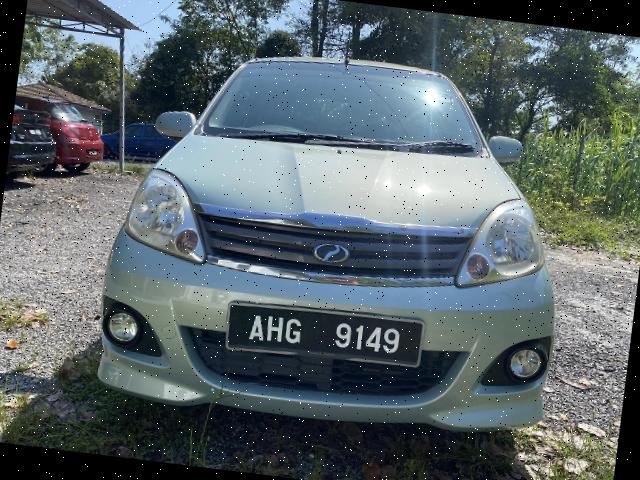License_Plate: (228, 303, 417, 369)
car: (87, 25, 587, 453)
